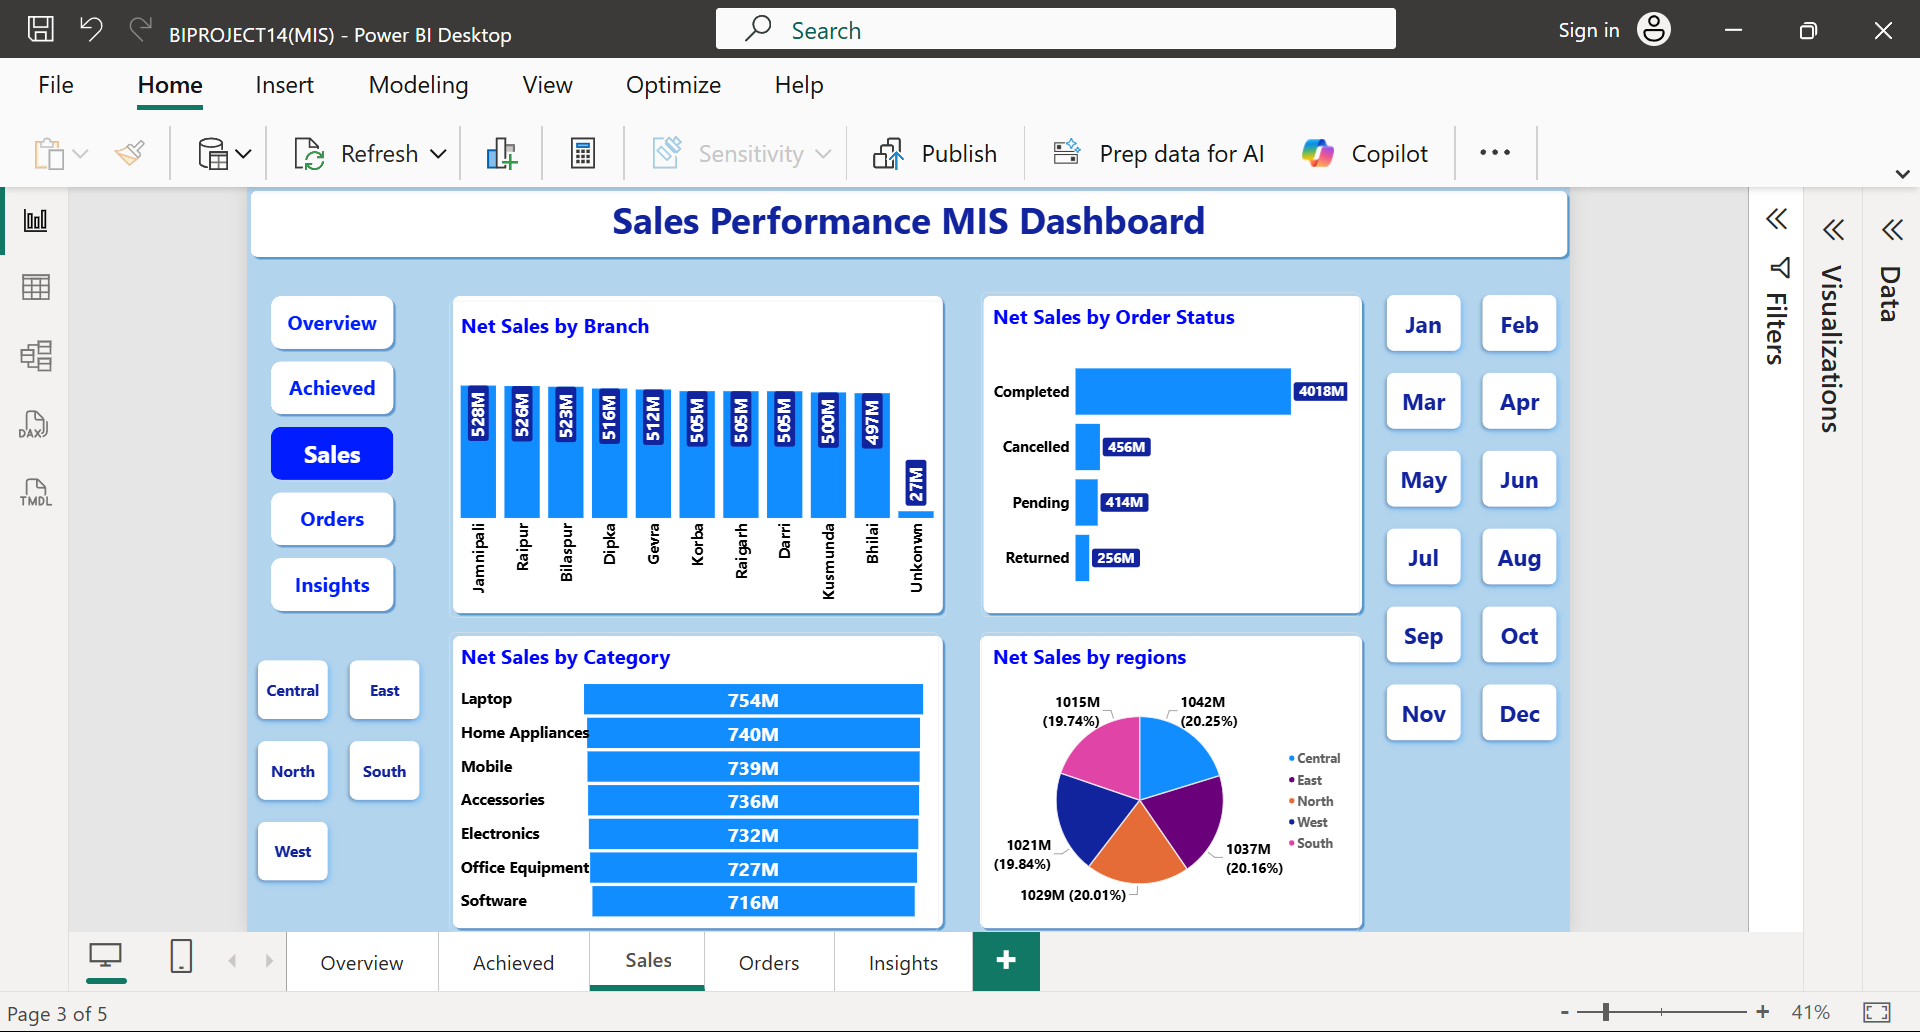

What the dashboard file says about the page in this screenshot:
{"tool":"powerbi","page":{"name":"Sales","canvas":[1920,1080],"ordinal":2},"visuals":[{"type":"shape","box":[0,0,1920,106.7],"z":0},{"type":"pageNavigator","box":[29,153.9,188.8,470.5],"z":1000},{"type":"advancedSlicerVisual","fields":{"Values":["Clean_data.Region"]},"box":[0,670.9,267.2,351.4],"z":2000},{"type":"advancedSlicerVisual","fields":{"Values":["Date Table.Month"]},"box":[1638.1,139.4,278.8,682.5],"z":3000},{"type":"shape","box":[292.2,153.1,720.8,470.3],"z":4000},{"type":"textbox","box":[0,10,1920.2,105.8],"z":5000},{"type":"shape","box":[1063.1,153.1,559.4,470.3],"z":6000},{"type":"clusteredColumnChart","title":"Net Sales by Branch","fields":{"Category":["Clean_data.Branch"],"Y":["Date Table.Net Sales"]},"box":[292.2,164.2,720.8,459.2],"z":7000},{"type":"clusteredBarChart","title":"Net Sales by Order Status","fields":{"Y":["Date Table.Net Sales"],"Category":["Clean_data.Order_Status"]},"box":[1065.9,153.1,548.2,470.3],"z":8000},{"type":"shape","box":[292.2,645.6,720.8,434.1],"z":9000},{"type":"shape","box":[1057.5,645.6,564.9,434.1],"z":10000},{"type":"funnel","title":"Net Sales by Category","fields":{"Category":["Clean_data.Product_Category"],"Y":["Date Table.Net Sales"]},"box":[292.2,645.6,709.7,434.1],"z":11000},{"type":"pieChart","title":"Net Sales by regions","fields":{"Category":["Clean_data.Region"],"Y":["Date Table.Net Sales"]},"box":[1065.9,645.6,548.2,434.1],"z":12000}]}

Visuals, with their boxes on the page's 1920x1080 design canvas (x1, y1, x2, y2). These are canvas units, not pixel positions in the 1920x1032 screenshot, which may show the page scaled, cropped or inside an application window:
shape: box(0, 0, 1920, 107)
pageNavigator: box(29, 154, 218, 624)
advancedSlicerVisual - Clean_data.Region: box(0, 671, 267, 1022)
advancedSlicerVisual - Date Table.Month: box(1638, 139, 1917, 822)
shape: box(292, 153, 1013, 623)
textbox: box(0, 10, 1920, 116)
shape: box(1063, 153, 1622, 623)
"Net Sales by Branch" clusteredColumnChart: box(292, 164, 1013, 623)
"Net Sales by Order Status" clusteredBarChart: box(1066, 153, 1614, 623)
shape: box(292, 646, 1013, 1080)
shape: box(1058, 646, 1622, 1080)
"Net Sales by Category" funnel: box(292, 646, 1002, 1080)
"Net Sales by regions" pieChart: box(1066, 646, 1614, 1080)
